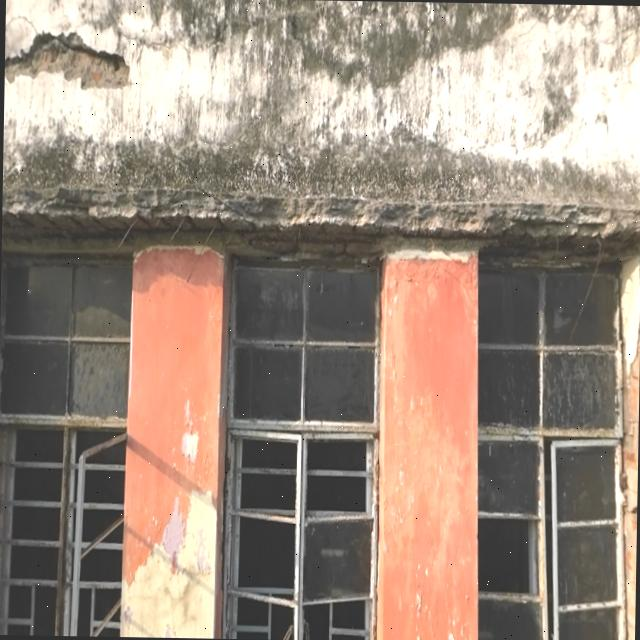stain_mould: (2, 0, 640, 209), (1, 186, 640, 265)
